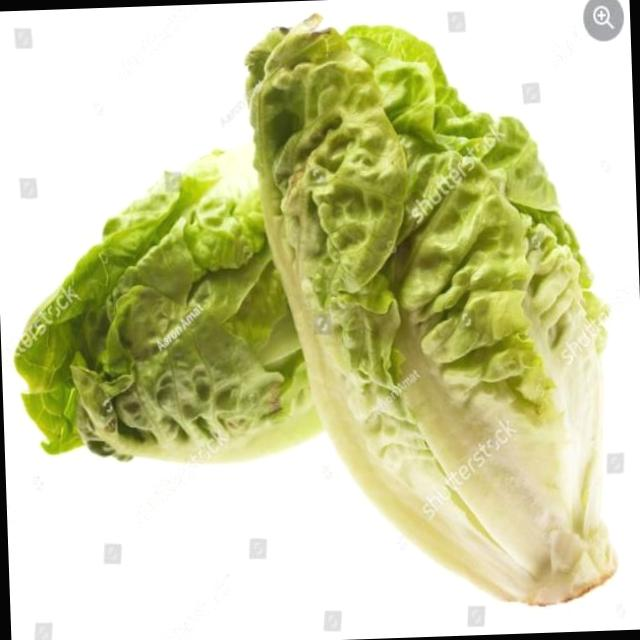Lettuce-Ready-to-Harvest: (247, 20, 614, 603), (15, 152, 319, 460)
